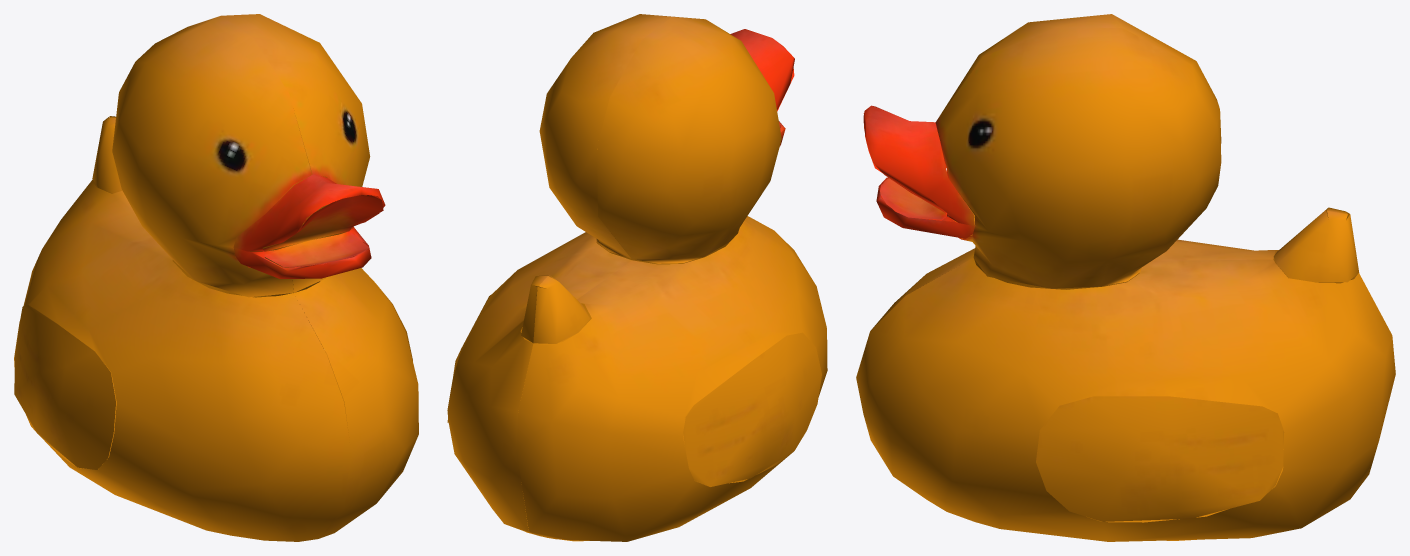
File: rubber_duck_toy.glb
3 renders of one model, left to right at view 1: azimuth 30°, elevation 25°; view 2: azimuth 150°, elevation 25°; view 3: azimuth 270°, elevation 25°, orthographic. The views are drawn at different scales.
Parts seen in each view (by area): view 1: rubber_duck_toy; view 2: rubber_duck_toy; view 3: rubber_duck_toy.
Part boxes in pixels (left/top/right/bottom): rubber_duck_toy: left=14, top=14, right=418, bottom=541; rubber_duck_toy: left=447, top=14, right=827, bottom=541; rubber_duck_toy: left=856, top=14, right=1395, bottom=541.
Size of the model in its own units: 0.2149 by 0.2857 by 0.3003.
1 material, 1 textured.
